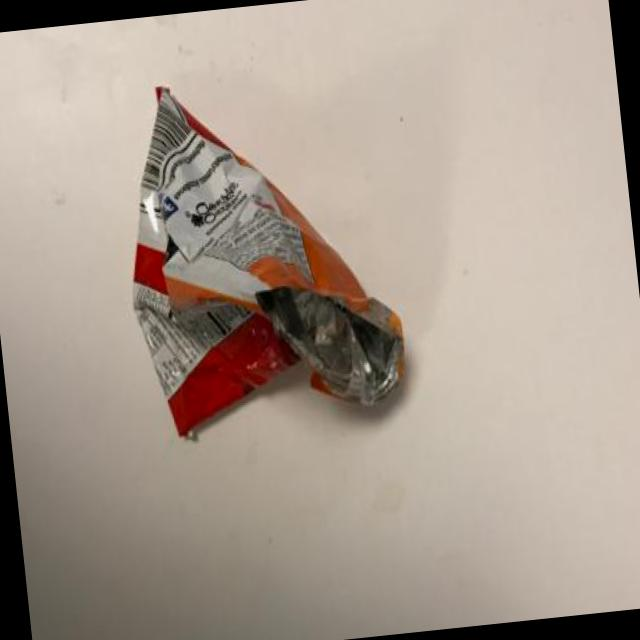giay_goi: (132, 86, 404, 434)
